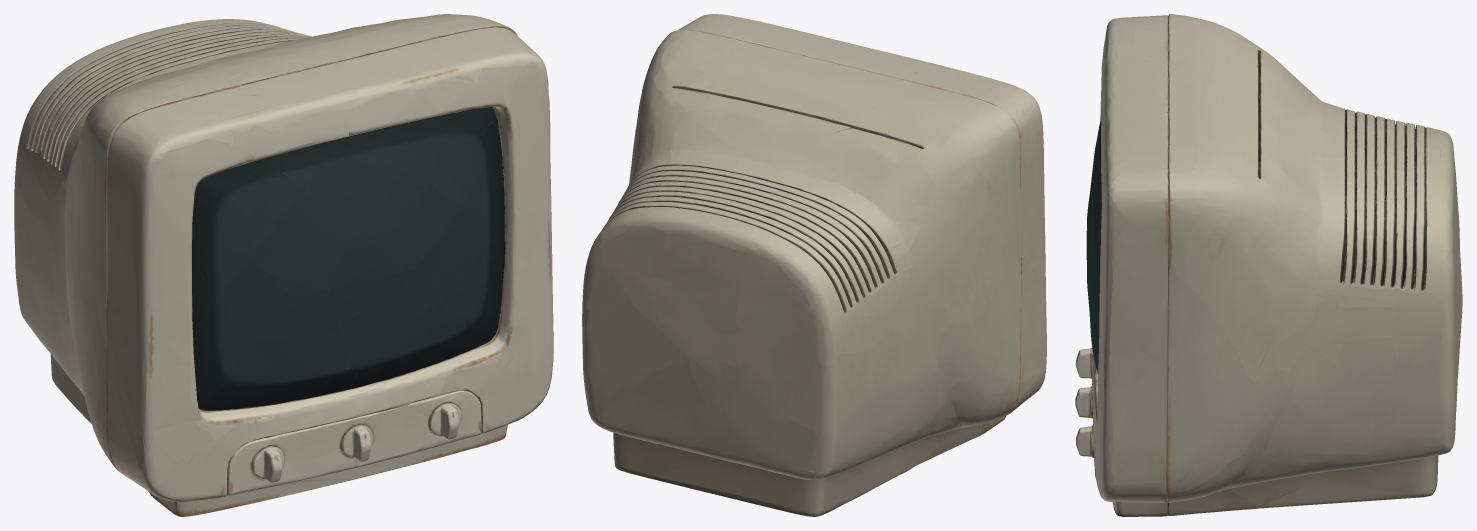
Rendered from monitor_crt.glb.
3 renders of one model, left to right at view 1: azimuth 30°, elevation 25°; view 2: azimuth 150°, elevation 25°; view 3: azimuth 270°, elevation 25°, orthographic. The views are drawn at different scales.
Visible parts, largest first — view 1: Mesh_0; view 2: Mesh_0; view 3: Mesh_0.
Part boxes in pixels (box(x1,y1,x2,y2)): Mesh_0: box(14, 14, 553, 516); Mesh_0: box(582, 14, 1046, 516); Mesh_0: box(1075, 14, 1462, 516).
Bounding box in the file's own units: 1.9 × 1.7 × 1.69.
Materials: 1 (1 with a texture image).
